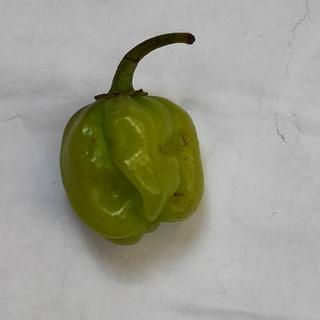Grade-B: (52, 85, 206, 248)
